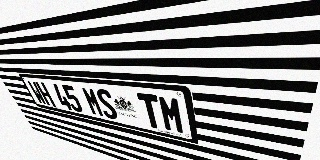4: (51, 83, 73, 111)
5: (61, 84, 84, 113)
H: (35, 82, 56, 107)
M: (157, 95, 186, 135), (81, 87, 105, 117)
S: (94, 88, 119, 120)
T: (136, 93, 164, 130)
W: (27, 81, 47, 105)
